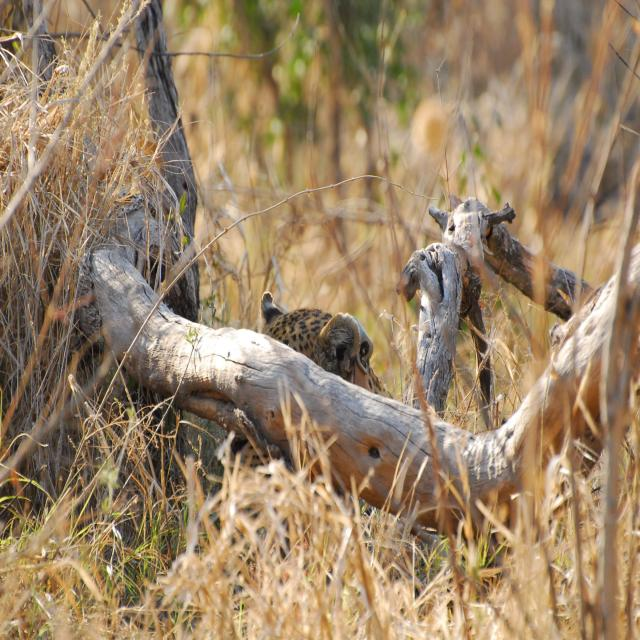Leopard: (242, 283, 376, 402)
